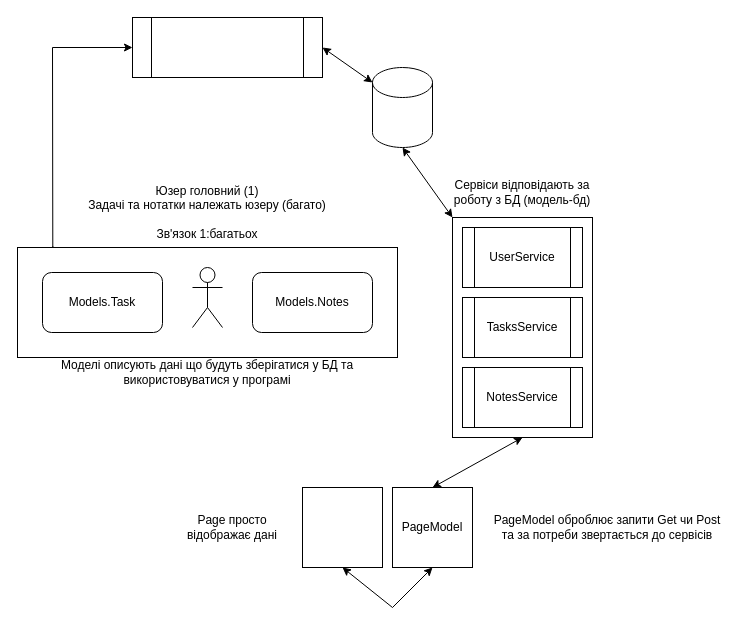
This 740x634 diagram has some shape labels left out. The box of each missing label's shape, as (x1, y1, x2, y2) in pixels:
DbContext має DbSet з цих моделей: (132, 16, 322, 78)
Models.User: (192, 266, 222, 328)
Page: (302, 486, 382, 568)
